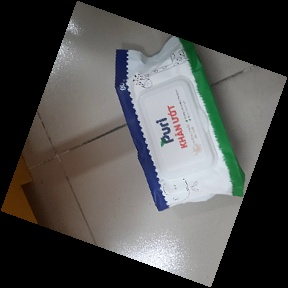Puri Trang: (113, 31, 247, 214)
